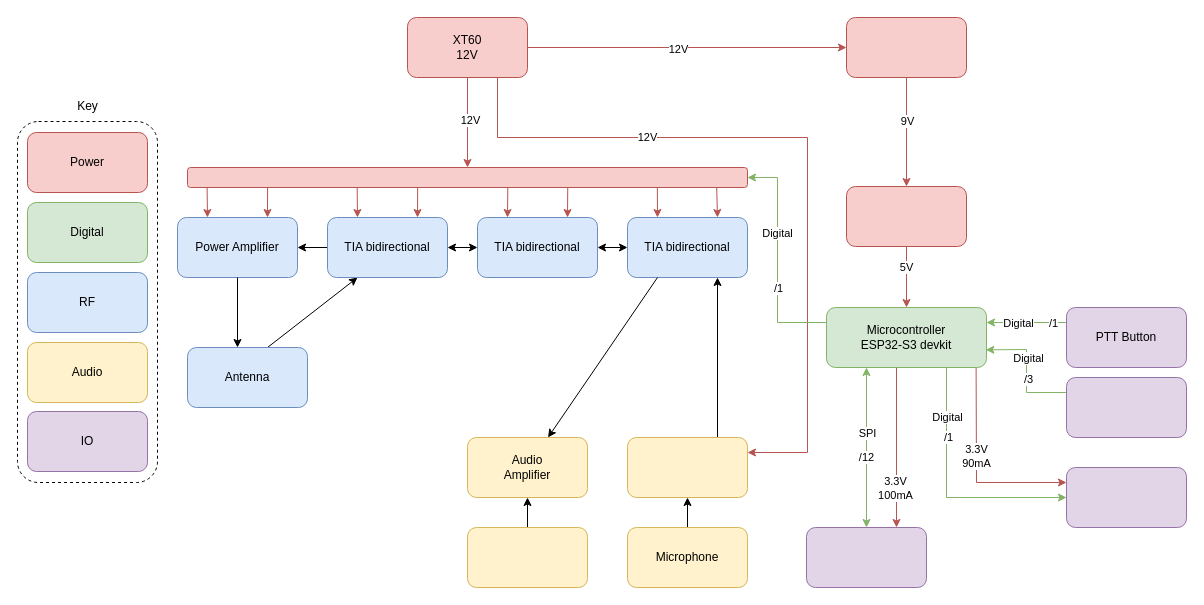
Image size: 1204x605. Some labels were removed from this diagram. The shapes that lost their labels are listed below. From the top down, each one's box as (x1, y1, x2, y2) in pixels, then its label:
(846, 16, 966, 78): LDO regulator 9V
(186, 166, 748, 188): 12V RX/TX Switcher
(846, 186, 966, 246): LDO regulator 5V
(1066, 376, 1186, 438): Rotary Encoder
(626, 436, 748, 498): Microphone Amplifier
(1066, 466, 1186, 528): Status LEDs WS2812b
(466, 526, 588, 588): Speaker
(806, 526, 926, 588): 3,5 Inch TFT Display
